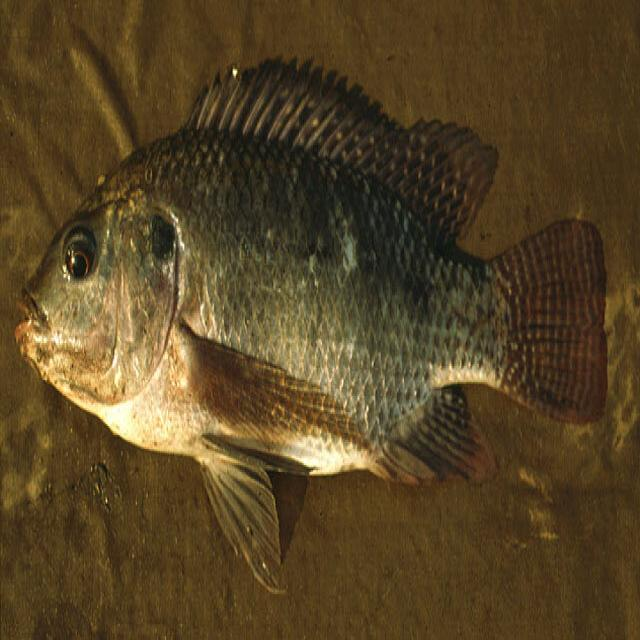ikan: (14, 51, 609, 594)
